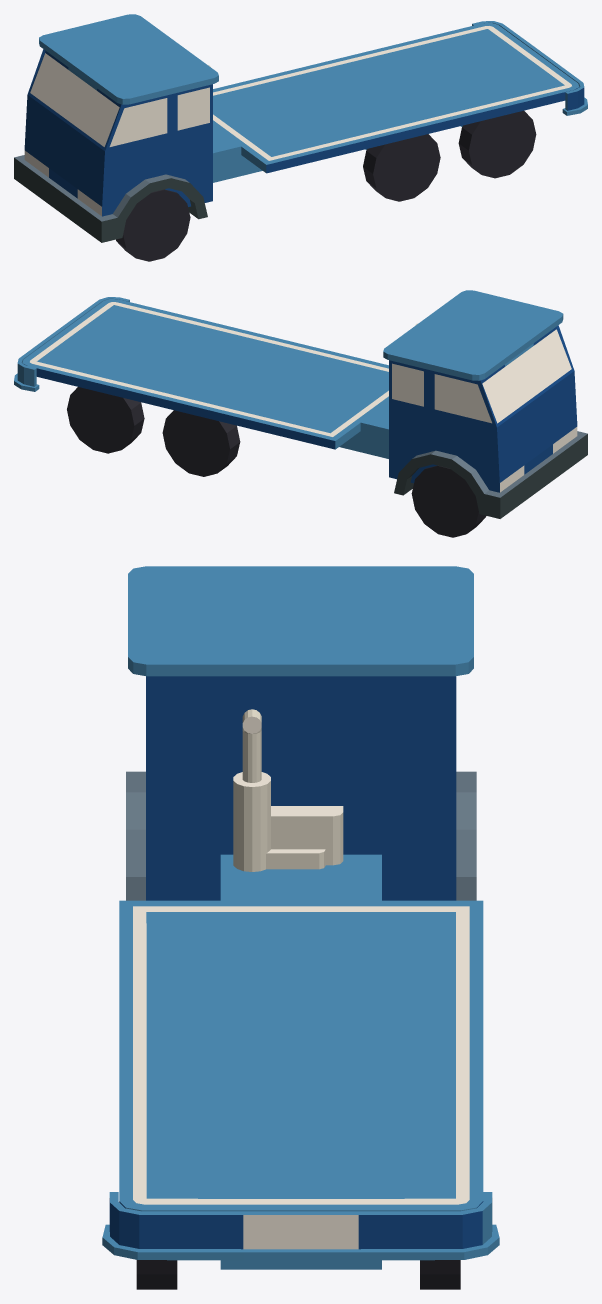
Rendered from Truck.fbx.
The picture shows the model from 3 angles, top to bottom: view 1: azimuth 30°, elevation 25°; view 2: azimuth 150°, elevation 25°; view 3: azimuth 270°, elevation 25°; orthographic projection. The views are drawn at different scales.
Visible parts, largest first — view 1: Truck; view 2: Truck; view 3: Truck.
Boxes of the visible parts, bbox=[...] form: Truck: bbox=[14, 14, 587, 261]; Truck: bbox=[14, 290, 587, 537]; Truck: bbox=[102, 566, 499, 1289].
Bounding box in the file's own units: 80.7 × 27.01 × 28.39.
